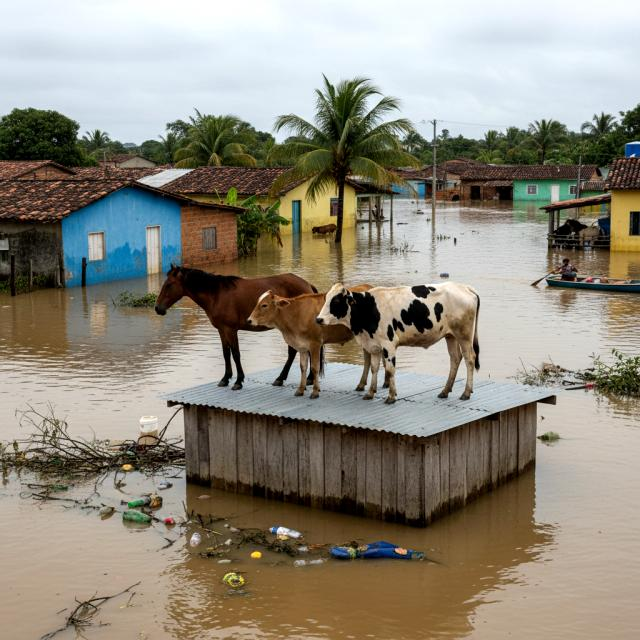civilian: (554, 255, 580, 285)
cow: (314, 276, 488, 412), (241, 281, 384, 402)
horse: (145, 264, 326, 403)
